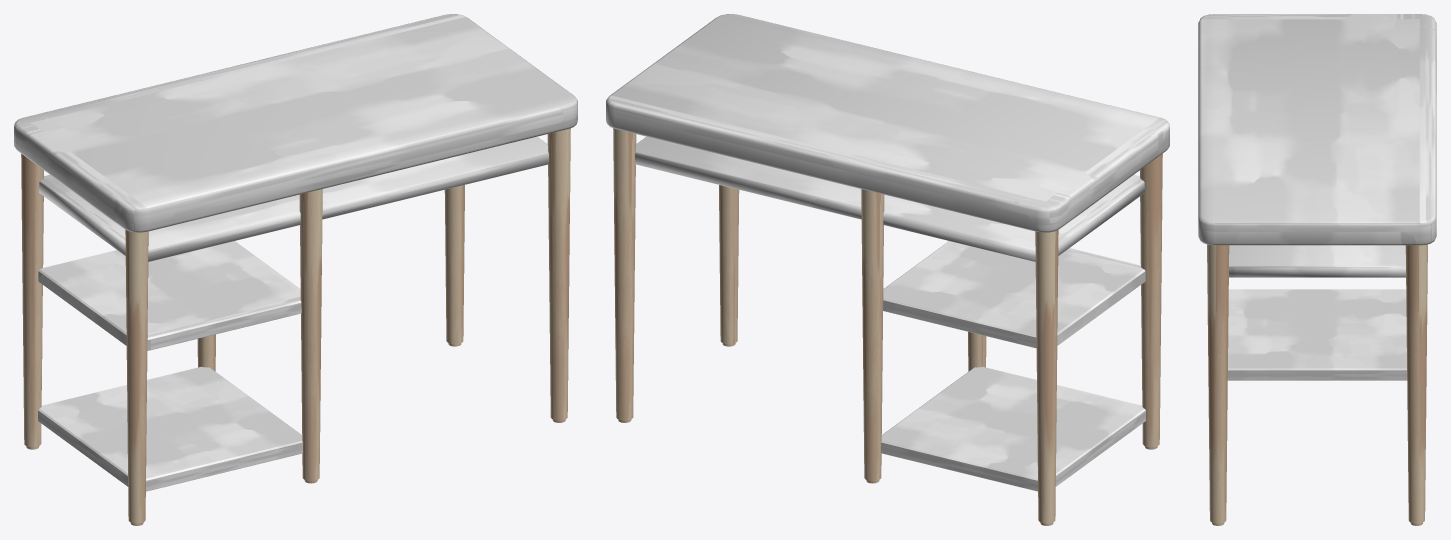
The model's file is elementary_desk.fbx.
3 renders of one model, left to right at view 1: azimuth 30°, elevation 25°; view 2: azimuth 150°, elevation 25°; view 3: azimuth 270°, elevation 25°, orthographic. The views are drawn at different scales.
Visible parts, largest first — view 1: Cube.001, Cylinder, Cube.004, Cube.003, Cube.002, Cylinder.001; view 2: Cube.001, Cylinder, Cube.004, Cube.003, Cube.002, Cylinder.001; view 3: Cube.001, Cube.004, Cylinder, Cube.002.
Part boxes in pixels (<box>): Cube.001: <box>14,14,577,232</box>; Cylinder: <box>21,128,570,525</box>; Cube.004: <box>38,366,302,491</box>; Cube.003: <box>38,241,301,350</box>; Cube.002: <box>39,136,548,261</box>; Cylinder.001: <box>197,189,322,483</box>; Cube.001: <box>606,14,1169,232</box>; Cylinder: <box>613,128,1162,525</box>; Cube.004: <box>881,366,1145,491</box>; Cube.003: <box>883,241,1145,348</box>; Cube.002: <box>635,136,1144,261</box>; Cylinder.001: <box>861,189,986,483</box>; Cube.001: <box>1198,14,1436,245</box>; Cube.004: <box>1227,289,1407,380</box>; Cylinder: <box>1207,244,1427,525</box>; Cube.002: <box>1229,245,1405,277</box>.
Size of the model in its own units: 0.9229 by 0.6302 by 0.4422.
2 materials, 2 textured.
